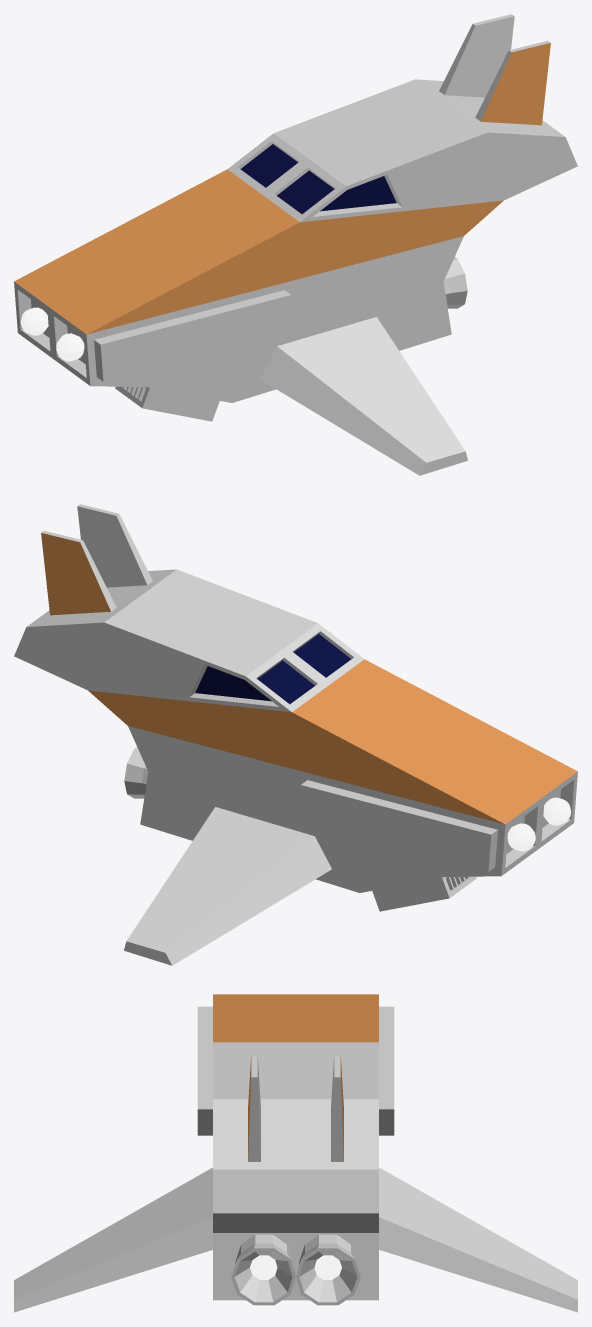
File: playerB.glb
3 renders of one model, top to bottom at view 1: azimuth 30°, elevation 25°; view 2: azimuth 150°, elevation 25°; view 3: azimuth 270°, elevation 25°, orthographic. The views are drawn at different scales.
Parts seen in each view (by area): view 1: Cube; view 2: Cube; view 3: Cube.
Boxes of the visible parts, bbox=[...] form: Cube: bbox=[14, 14, 577, 475]; Cube: bbox=[14, 504, 577, 965]; Cube: bbox=[14, 994, 577, 1312].
Bounding box in the file's own units: 7.98 × 4.56 × 6.8.
